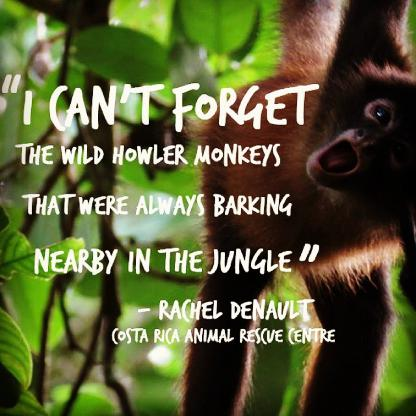Monkey: (229, 0, 415, 403)
